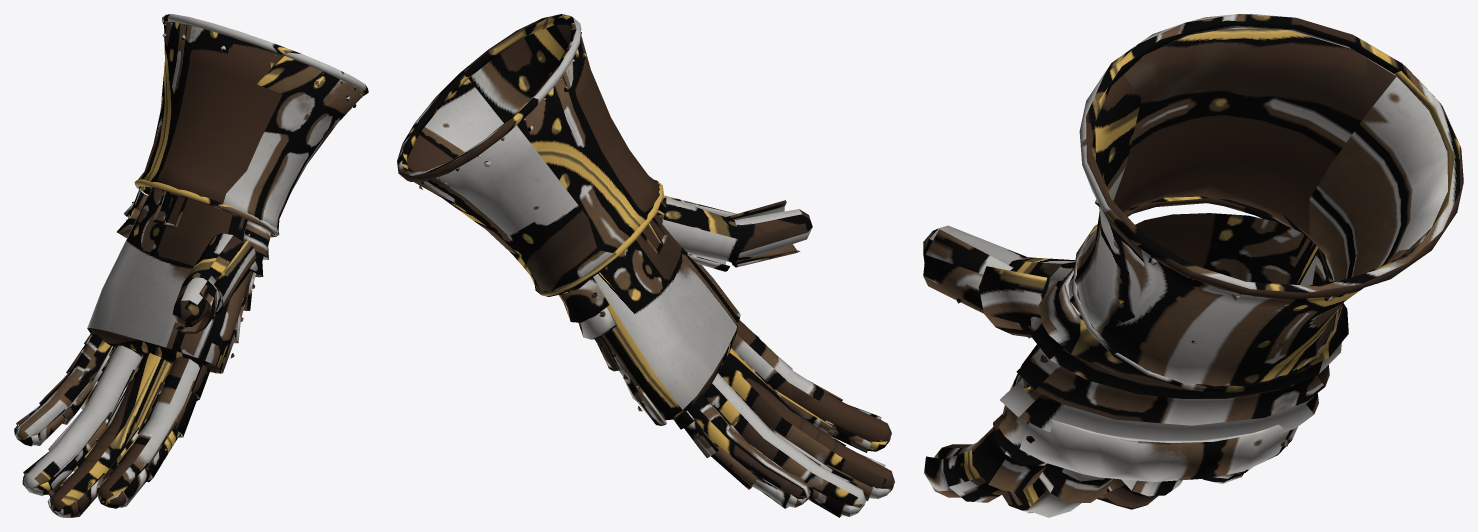
File: SM_EagleGauntlets_R_LOD2.fbx
The picture shows the model from 3 angles, left to right: view 1: azimuth 30°, elevation 25°; view 2: azimuth 150°, elevation 25°; view 3: azimuth 270°, elevation 25°; orthographic projection. The views are drawn at different scales.
Visible parts, largest first — view 1: SM_EagleGauntlets_R_LOD2; view 2: SM_EagleGauntlets_R_LOD2; view 3: SM_EagleGauntlets_R_LOD2.
Part boxes in pixels (x1=…): SM_EagleGauntlets_R_LOD2: x1=14, y1=14, x2=368, y2=517; SM_EagleGauntlets_R_LOD2: x1=397, y1=14, x2=894, y2=517; SM_EagleGauntlets_R_LOD2: x1=923, y1=14, x2=1463, y2=517.
Size of the model in its own units: 0.2575 by 0.2735 by 0.2016.
